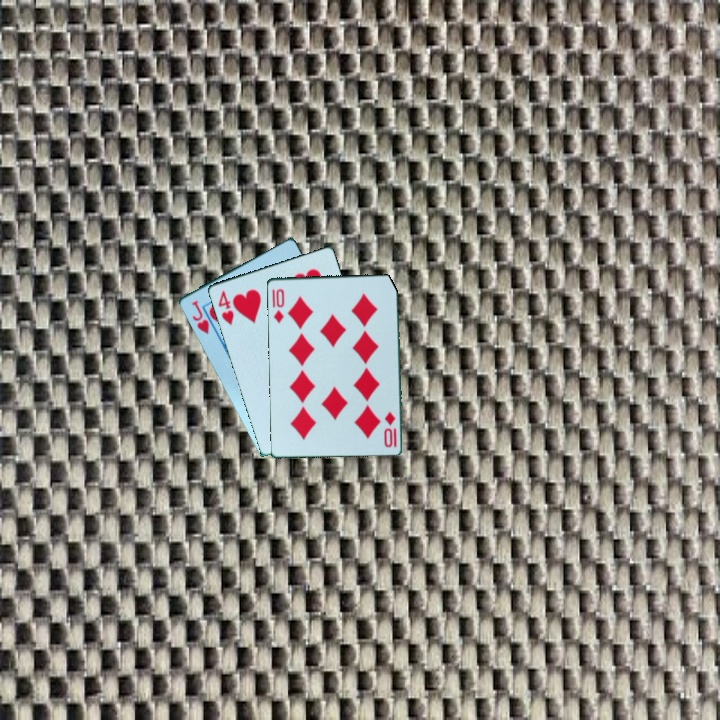10d: (380, 408, 399, 450), (268, 285, 287, 326)
4h: (214, 287, 237, 328)
Jh: (188, 297, 212, 337)
